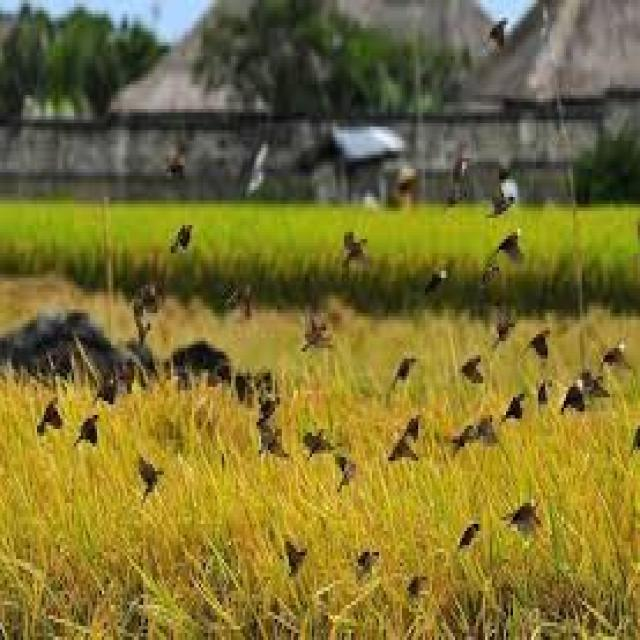bird: (500, 497, 542, 542), (294, 306, 333, 354), (134, 452, 165, 503), (340, 227, 372, 274), (489, 231, 525, 266), (280, 542, 312, 580), (299, 426, 337, 458), (386, 434, 421, 464), (500, 391, 530, 426), (38, 395, 63, 436), (458, 355, 488, 388), (522, 327, 550, 362), (488, 188, 518, 220), (331, 455, 358, 490), (166, 223, 193, 256), (454, 522, 480, 554), (77, 416, 100, 452), (486, 15, 508, 49)
